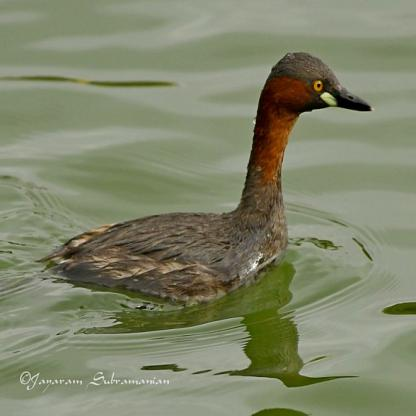Burung: (49, 52, 373, 298)
